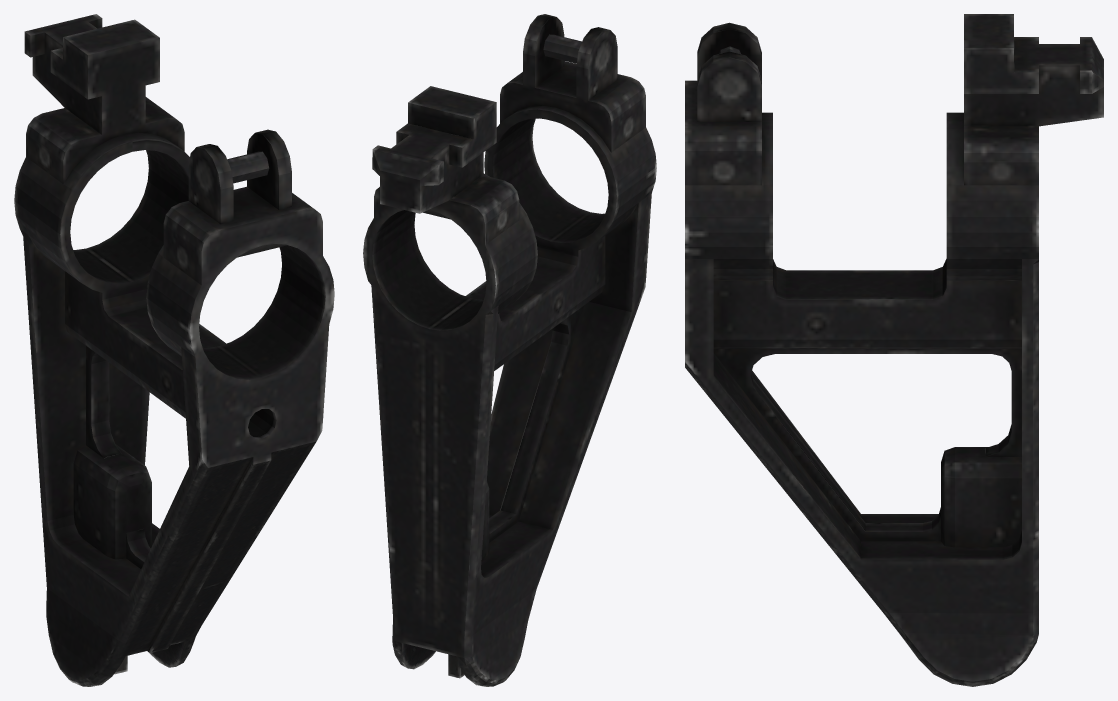
The picture shows the model from 3 angles, left to right: view 1: azimuth 30°, elevation 25°; view 2: azimuth 150°, elevation 25°; view 3: azimuth 270°, elevation 25°; orthographic projection. The views are drawn at different scales.
Visible parts, largest first — view 1: TW_5ae30e795acfc408fb139a0b_PZ_Import; view 2: TW_5ae30e795acfc408fb139a0b_PZ_Import; view 3: TW_5ae30e795acfc408fb139a0b_PZ_Import.
Part boxes in pixels (x1,y1,x2,y2): TW_5ae30e795acfc408fb139a0b_PZ_Import: [14, 14, 334, 686]; TW_5ae30e795acfc408fb139a0b_PZ_Import: [363, 14, 656, 686]; TW_5ae30e795acfc408fb139a0b_PZ_Import: [685, 14, 1103, 686].
Bounding box in the file's own units: 0.0124 × 0.0309 × 0.0516.
Materials: 1 (1 with a texture image).
